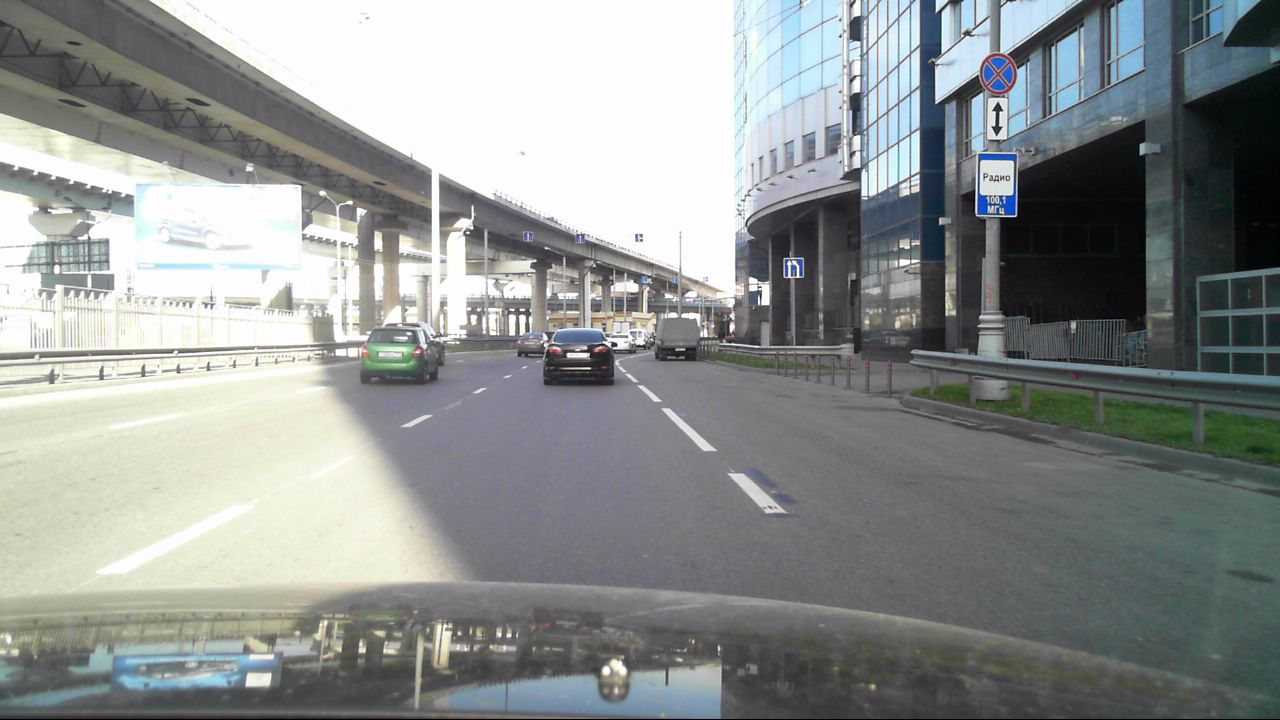No Parking: (980, 52, 1017, 95)
